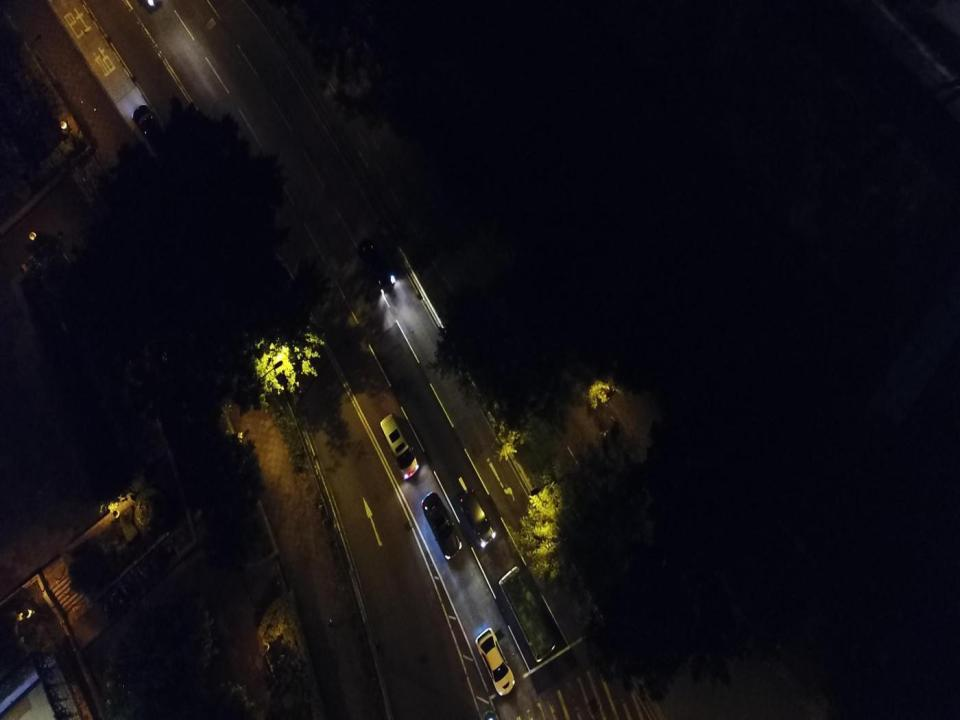car: (474, 627, 516, 696), (420, 491, 462, 560), (356, 235, 396, 293), (459, 488, 496, 549), (132, 103, 168, 156)
van: (379, 413, 420, 482)
